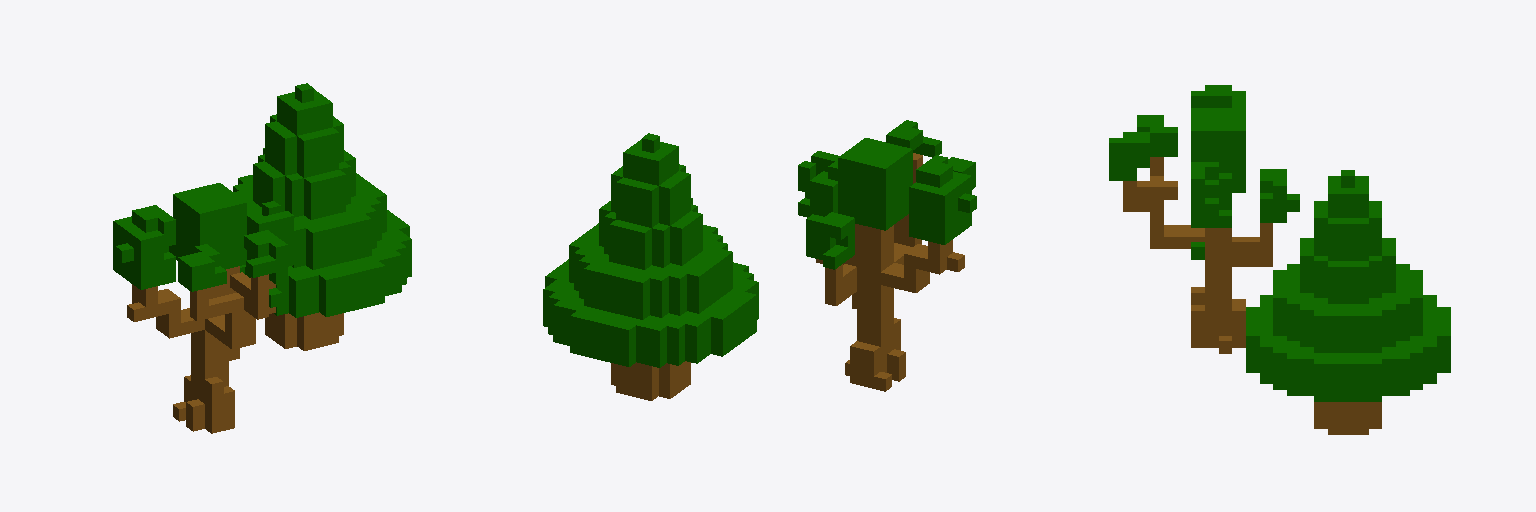
3 views of the same model, side by side, from view 1: azimuth 30°, elevation 25°; view 2: azimuth 150°, elevation 25°; view 3: azimuth 270°, elevation 25° (orthographic).
Parts seen in each view (by area): view 1: moreTrees; view 2: moreTrees; view 3: moreTrees.
Boxes of the visible parts, x1=… form: moreTrees: x1=113, y1=83, x2=411, y2=433; moreTrees: x1=543, y1=120, x2=976, y2=400; moreTrees: x1=1109, y1=85, x2=1450, y2=434.
Size of the model in its own units: 29 by 20 by 25.
Materials: 1 (1 with a texture image).